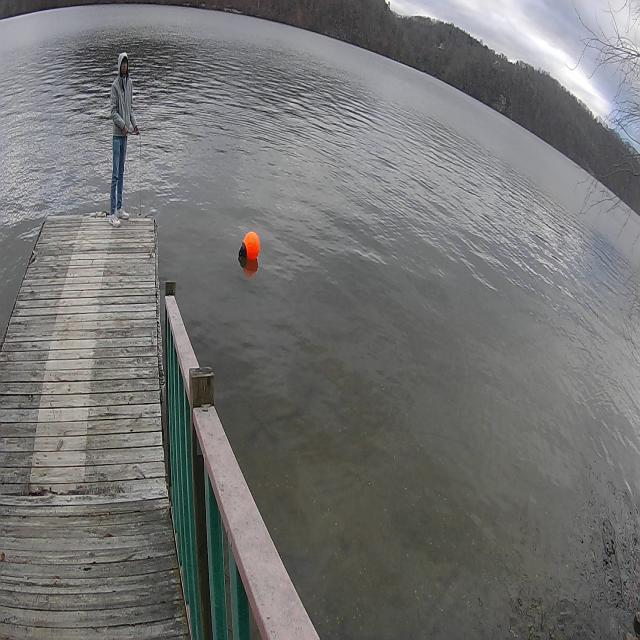Buoy: (238, 222, 262, 268)
